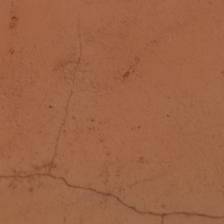Crack: (56, 0, 167, 89), (193, 0, 224, 122)
